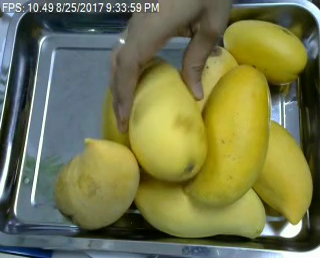Mango: (183, 62, 271, 207), (129, 59, 209, 181), (134, 173, 264, 238), (55, 140, 138, 228), (244, 120, 313, 224), (222, 19, 306, 83), (191, 43, 239, 114)
